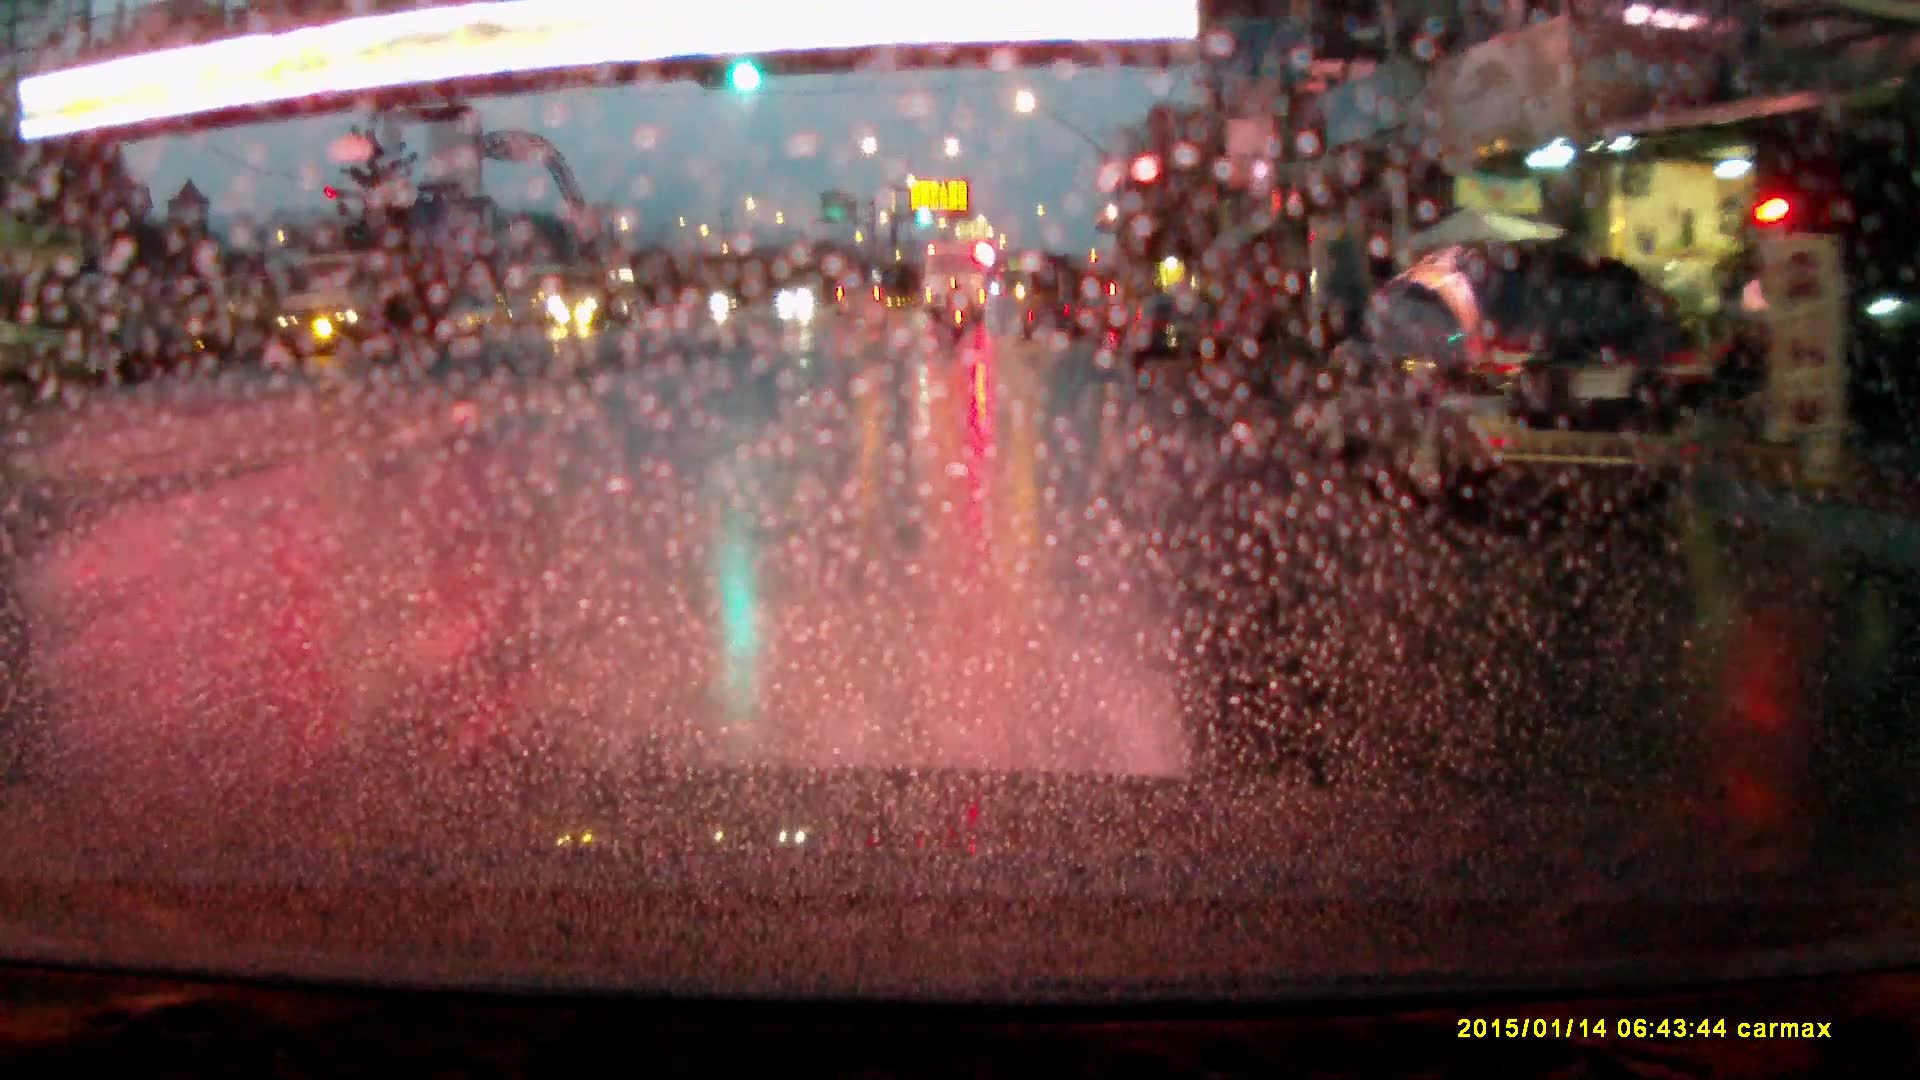rider: (946, 292, 969, 344)
vehicle: (1317, 247, 1739, 517), (270, 259, 443, 360), (1124, 294, 1228, 378), (919, 241, 988, 334), (548, 267, 644, 329), (1064, 298, 1132, 348), (831, 273, 887, 320)
